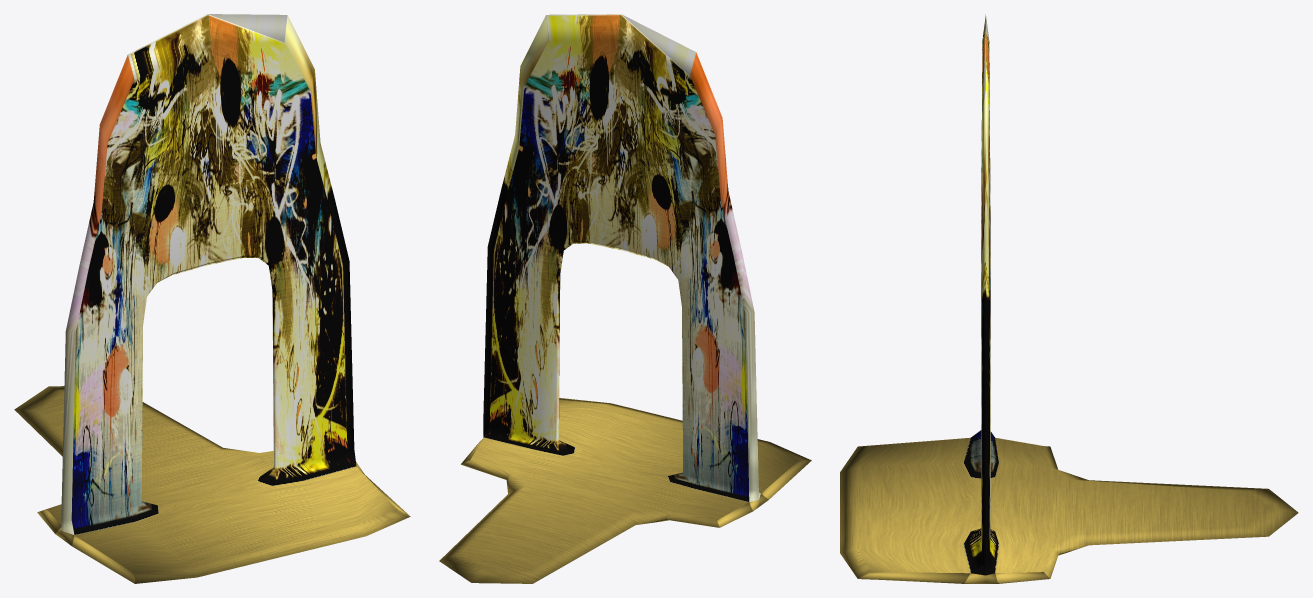
Rendered from bookstop.fbx.
3 renders of one model, left to right at view 1: azimuth 30°, elevation 25°; view 2: azimuth 150°, elevation 25°; view 3: azimuth 270°, elevation 25°, orthographic. The views are drawn at different scales.
Visible parts, largest first — view 1: bookstop; view 2: bookstop; view 3: bookstop.
Boxes of the visible parts, x1,y1,x2,y2 form: bookstop: [14, 14, 410, 583]; bookstop: [439, 14, 811, 583]; bookstop: [840, 14, 1298, 583].
Size of the model in its own units: 0.2954 by 0.4771 by 0.4067.
